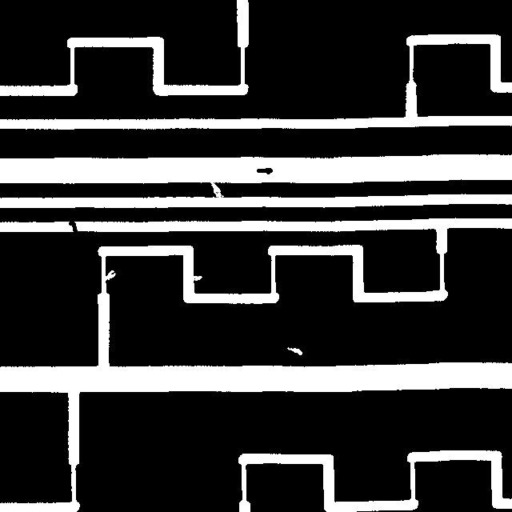copper: (249, 160, 280, 182)
mousebite: (95, 262, 123, 288), (182, 268, 210, 288)
open: (202, 174, 231, 206)
pin-hole: (279, 339, 310, 362)
short: (61, 214, 85, 241)
